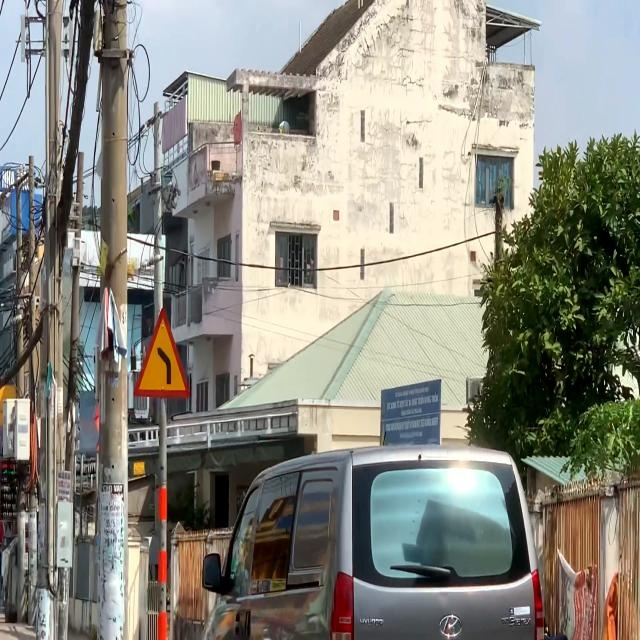bien_nguy_hiem: (131, 304, 192, 402)
